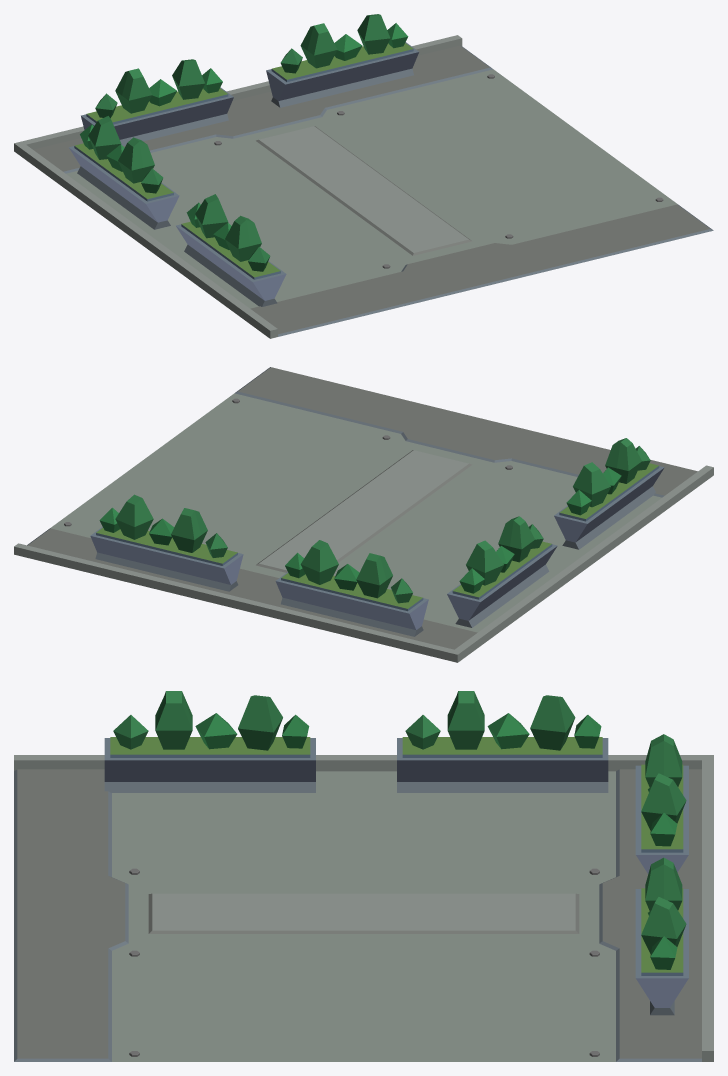
File: OpenCorner_B.gltf
3 views of the same model, one above another, from view 1: azimuth 30°, elevation 25°; view 2: azimuth 150°, elevation 25°; view 3: azimuth 270°, elevation 25° (orthographic). The views are drawn at different scales.
Parts seen in each view (by area): view 1: Scifi_Panel_01 Plaza014_group4.029; view 2: Scifi_Panel_01 Plaza014_group4.029; view 3: Scifi_Panel_01 Plaza014_group4.029.
Part boxes in pixels (x1,y1,x2,y2): Scifi_Panel_01 Plaza014_group4.029: [14, 14, 713, 338]; Scifi_Panel_01 Plaza014_group4.029: [14, 367, 713, 662]; Scifi_Panel_01 Plaza014_group4.029: [14, 691, 713, 1061].
Size of what is drawn, in the model's own units: 10 by 1.52 by 10.
Materials: 1 (1 with a texture image).
